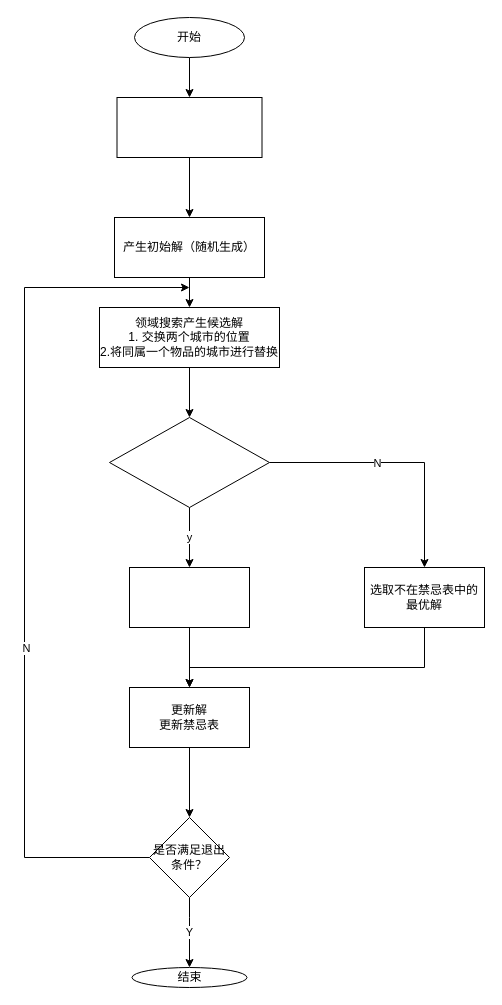
The diagram is 502 pixels wide and 1005 high, and some of its shapes have lost their labels. Each missing label, with the centre of its shape:
"候选解中最好解是否由于全局最优解？" belongs at [189,462].
"设置禁忌表和禁忌长度" belongs at [189,127].
"选取候选解中最优解" belongs at [189,597].
